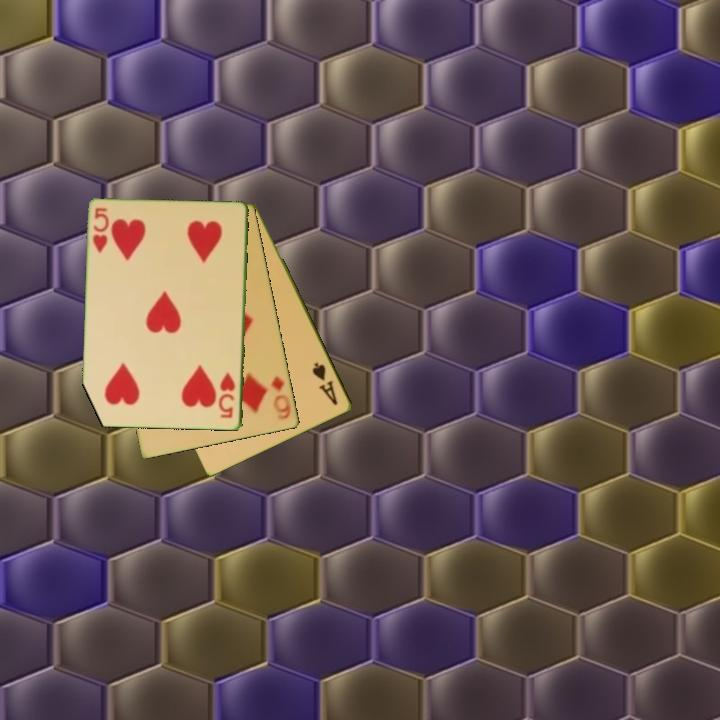5h: (89, 205, 112, 256), (217, 370, 238, 421)
6d: (268, 373, 294, 423)
As: (309, 359, 341, 408)
